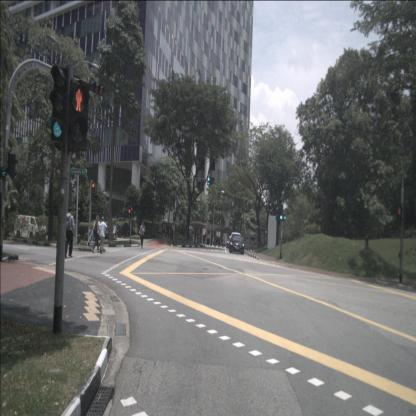human-pedestrian-adult: (65, 207, 75, 258), (92, 215, 100, 254), (99, 217, 107, 254), (139, 220, 146, 250), (112, 224, 118, 240), (204, 232, 206, 244)
vehicle-car: (13, 214, 46, 241), (229, 236, 244, 254)
